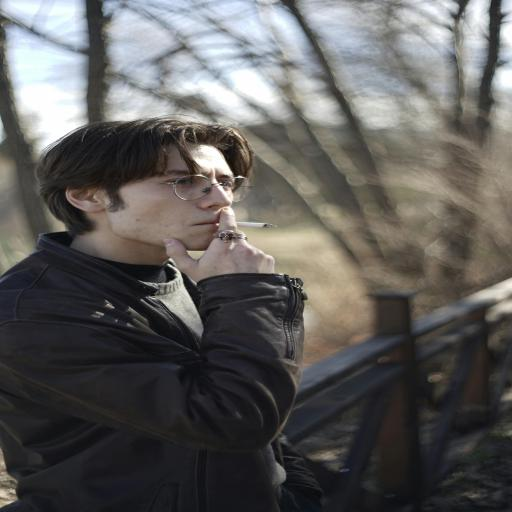terdeteksi merokok: (165, 152, 306, 267)
